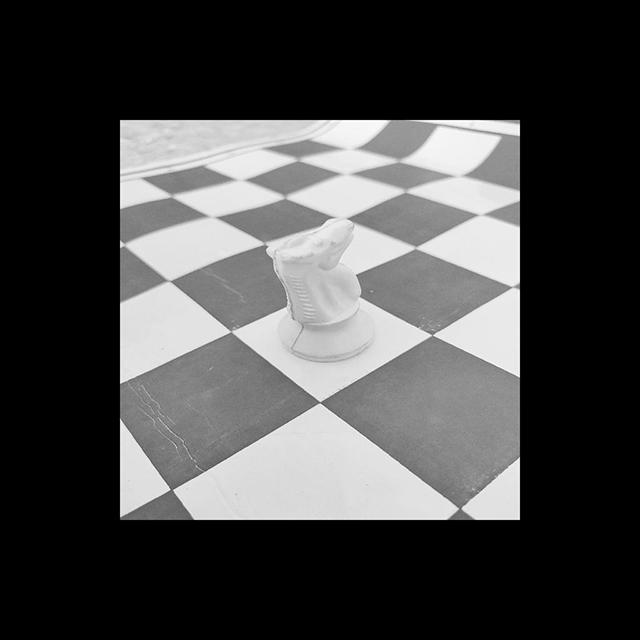white-knight: (262, 217, 378, 362)
